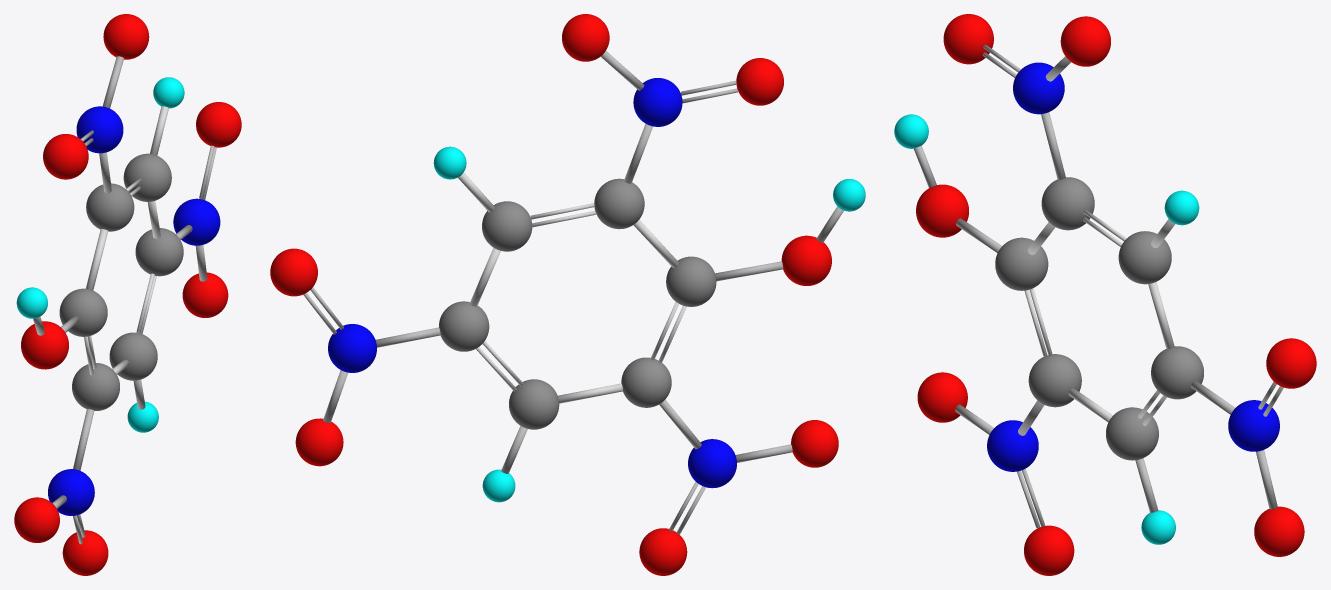
The model's file is 2,4,6-trinitrophenol.glb.
3 renders of one model, left to right at view 1: azimuth 30°, elevation 25°; view 2: azimuth 150°, elevation 25°; view 3: azimuth 270°, elevation 25°, orthographic. The views are drawn at different scales.
Visible parts, largest first — view 1: CMAtom_0; view 2: CMAtom_0; view 3: CMAtom_0.
Part boxes in pixels (x1,y1,x2,y2): CMAtom_0: [14, 14, 241, 575]; CMAtom_0: [270, 14, 865, 575]; CMAtom_0: [894, 14, 1316, 575].
Size of the model in its own units: 0.5785 by 0.7492 by 0.4895.
